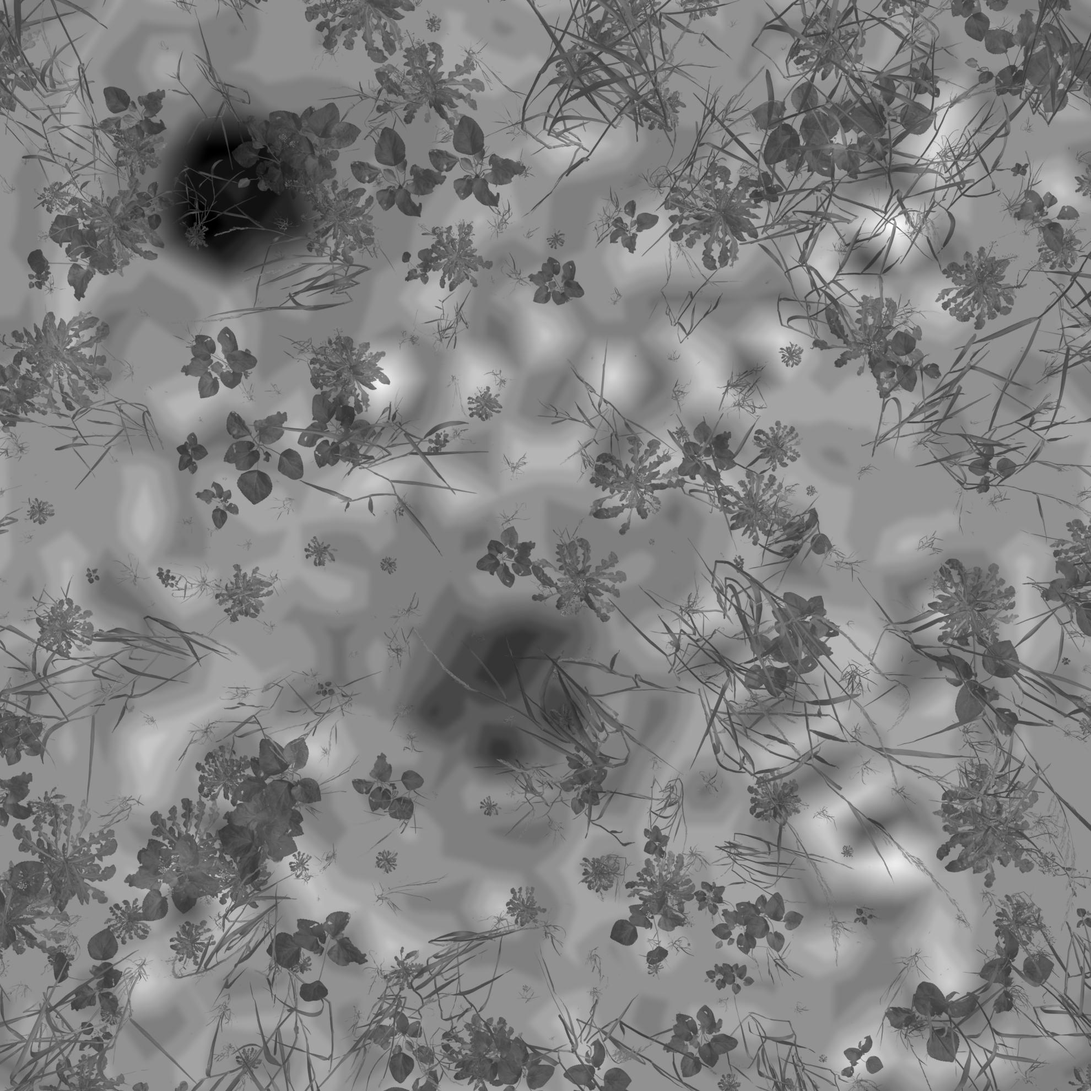landmine: (410, 599, 590, 783), (161, 120, 299, 245)
